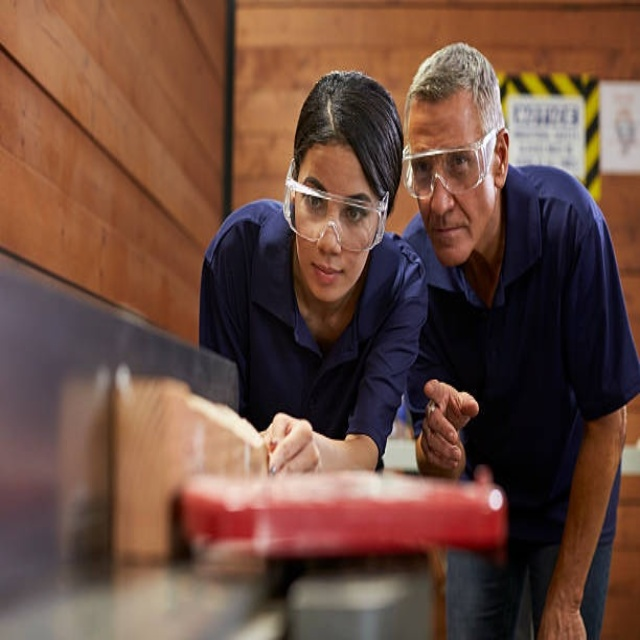Gafas: (285, 160, 390, 252), (401, 127, 500, 200)
Sin_guantes: (418, 390, 468, 475), (534, 574, 587, 638), (265, 416, 321, 476)
Sin_mascara: (428, 216, 473, 264), (305, 254, 348, 293)
